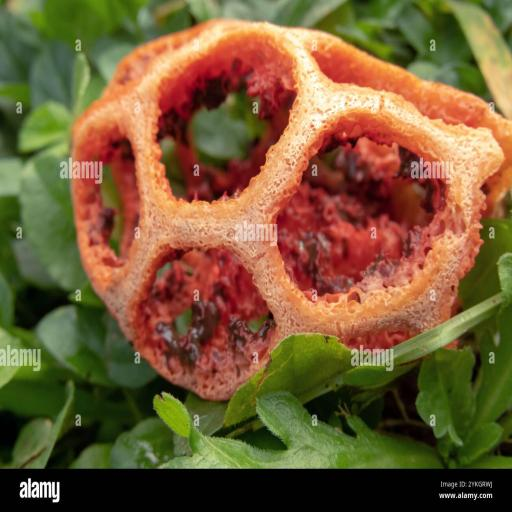Red Cage Fungus: (68, 26, 512, 392)
